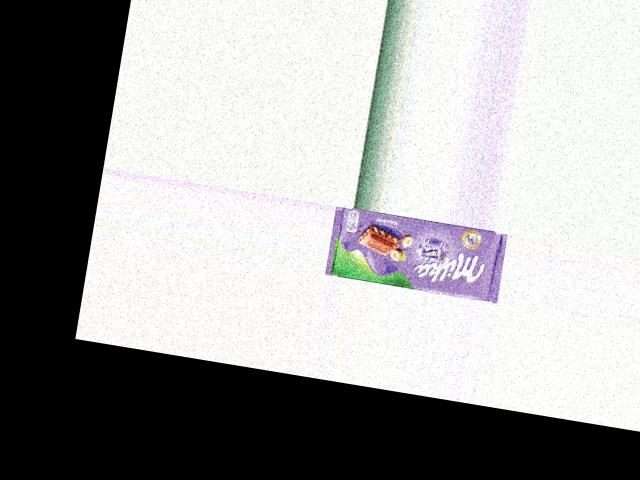chocolate: (324, 204, 508, 302)
